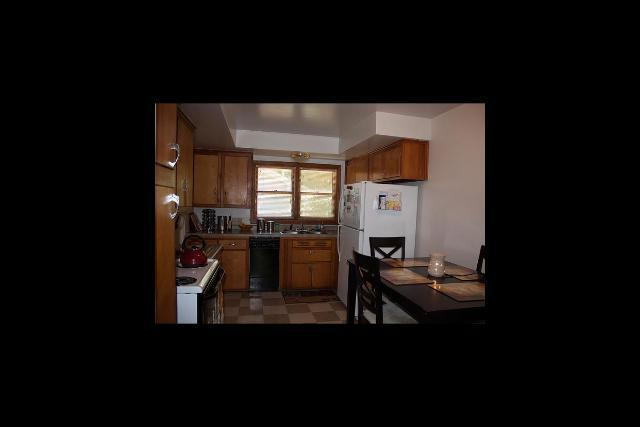Lavaplatos: (280, 222, 332, 236)
